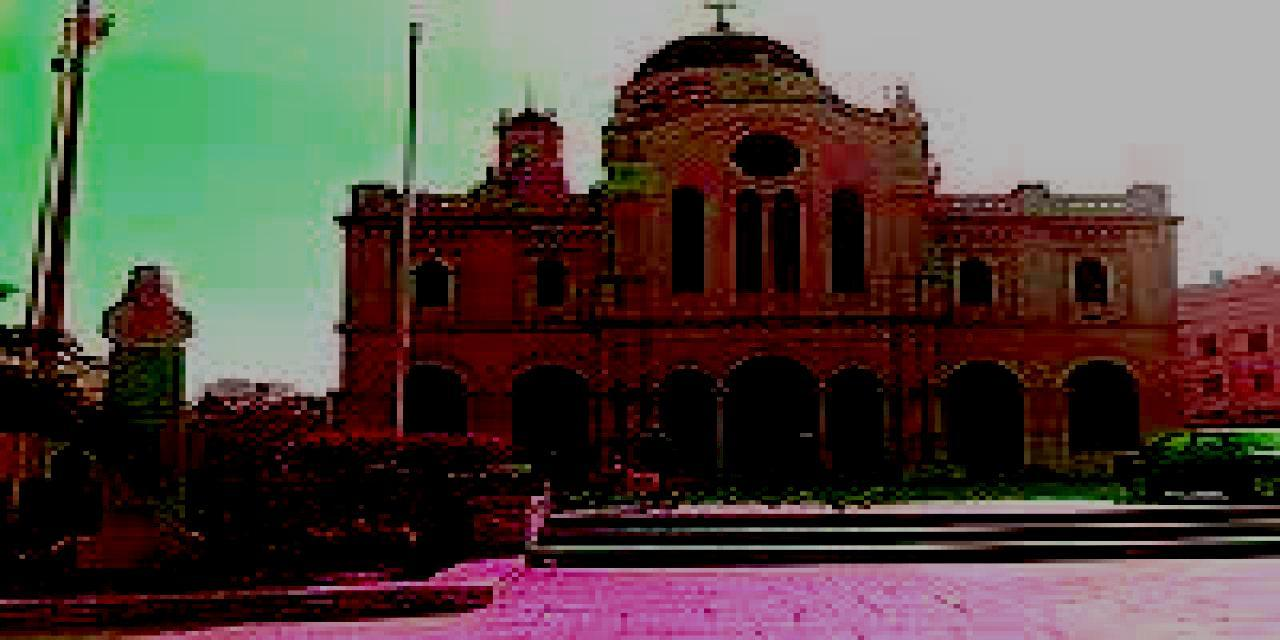Agios Minas: (334, 1, 1181, 490)
